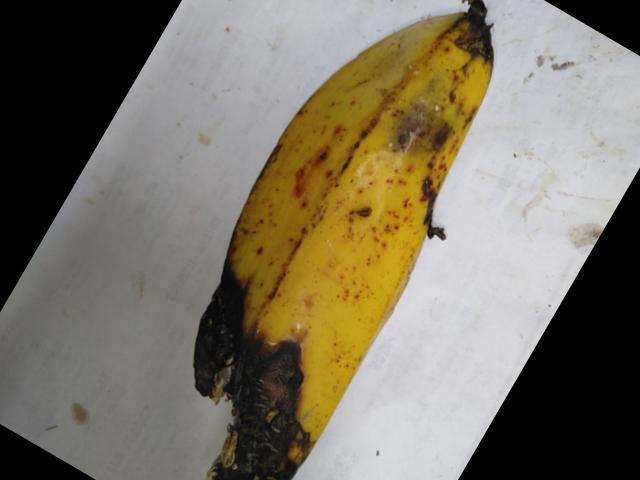rotten: (147, 247, 325, 479), (365, 41, 503, 243), (442, 0, 552, 98)
